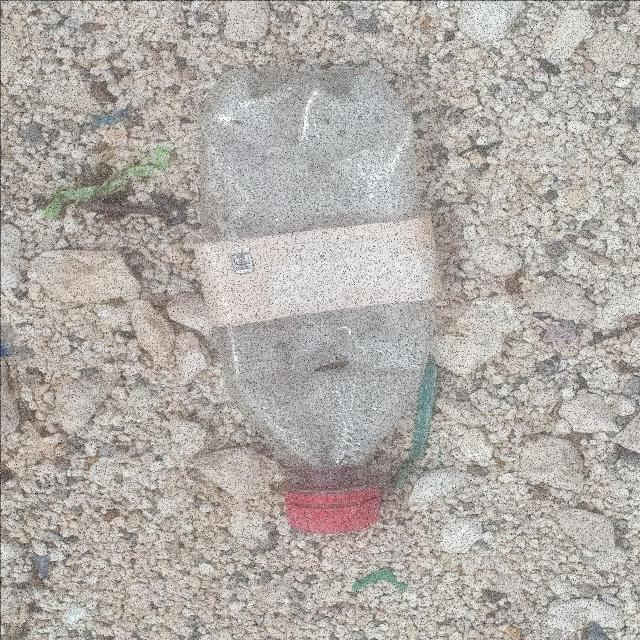plastic_waste: (191, 62, 447, 535)
